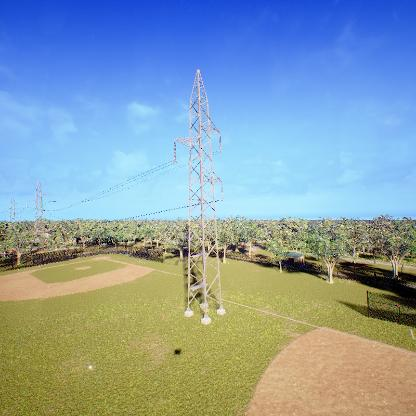tower: (168, 65, 227, 328), (25, 180, 51, 238)
